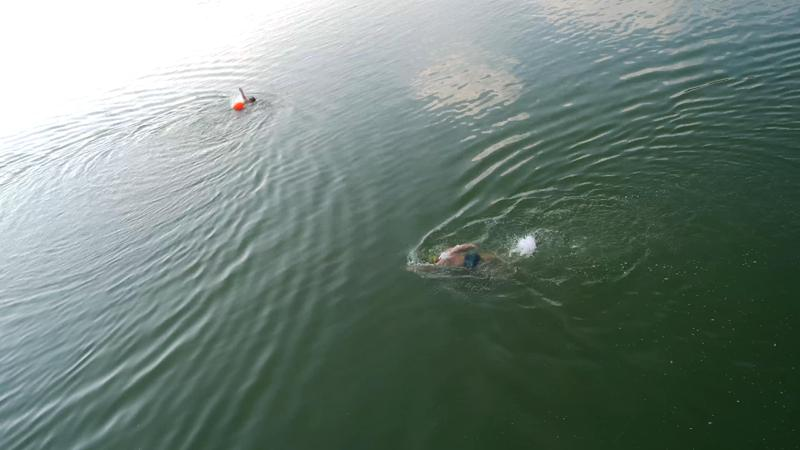swimmers: (427, 242, 498, 269)
